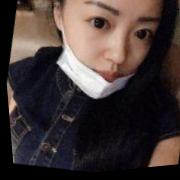WRONG: (47, 1, 169, 115)
